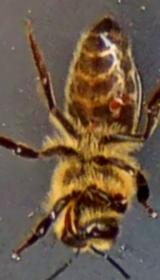varroa_mite: (102, 86, 138, 127)
